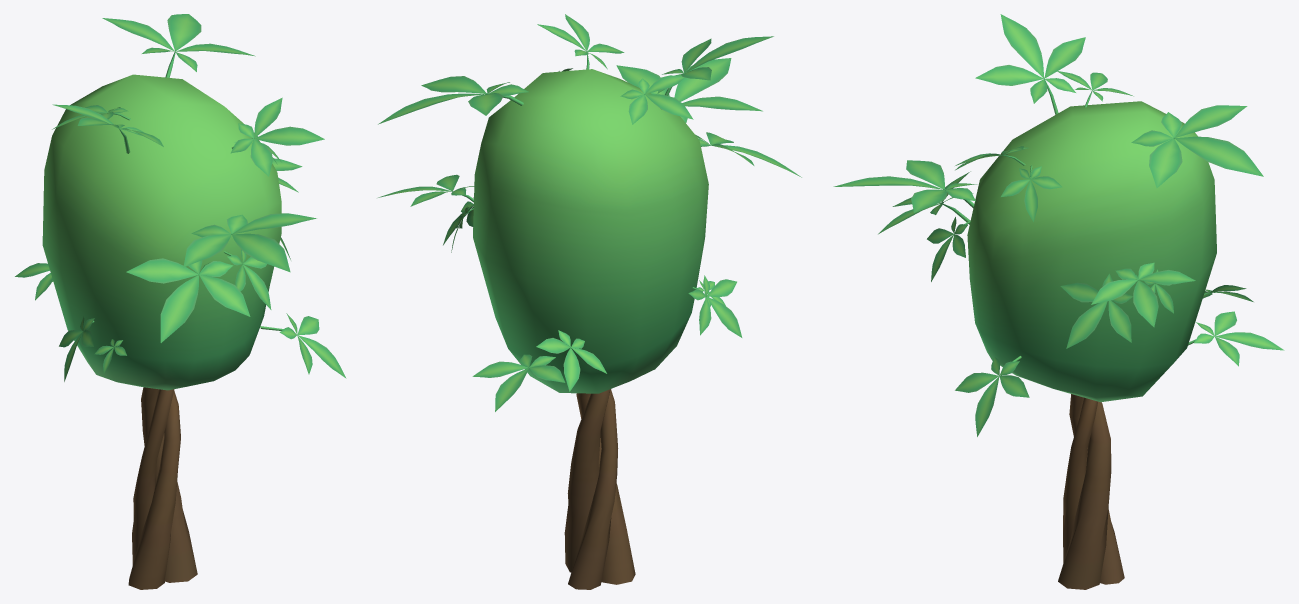
The model's file is MoneyTreev2.fbx.
The picture shows the model from 3 angles, left to right: view 1: azimuth 30°, elevation 25°; view 2: azimuth 150°, elevation 25°; view 3: azimuth 270°, elevation 25°; orthographic projection. The views are drawn at different scales.
Visible parts, largest first — view 1: Cube.018; view 2: Cube.018; view 3: Cube.018.
Part boxes in pixels (<box>): Cube.018: <box>15,14,346,589</box>; Cube.018: <box>378,14,801,589</box>; Cube.018: <box>833,14,1284,589</box>.
Size of the model in its own units: 189 by 306 by 249.
